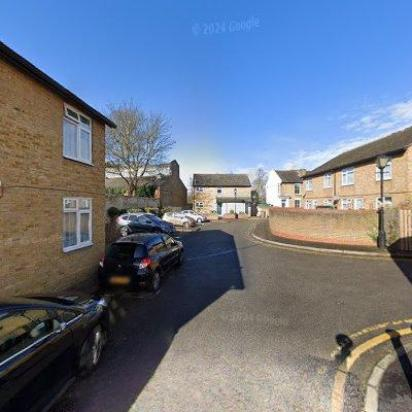stationary-car-onstreet: (0, 290, 116, 412), (92, 232, 186, 296), (113, 211, 176, 236), (162, 211, 195, 229), (181, 211, 209, 223)
